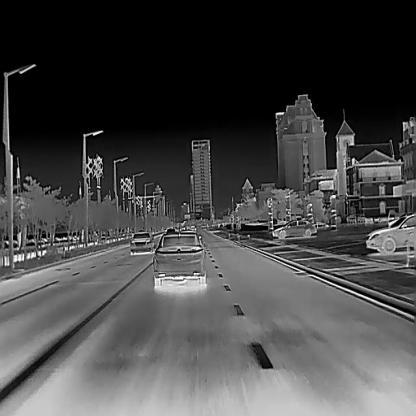car: (151, 231, 207, 286), (365, 213, 415, 254), (271, 217, 318, 239), (129, 231, 153, 254), (190, 223, 195, 232)
